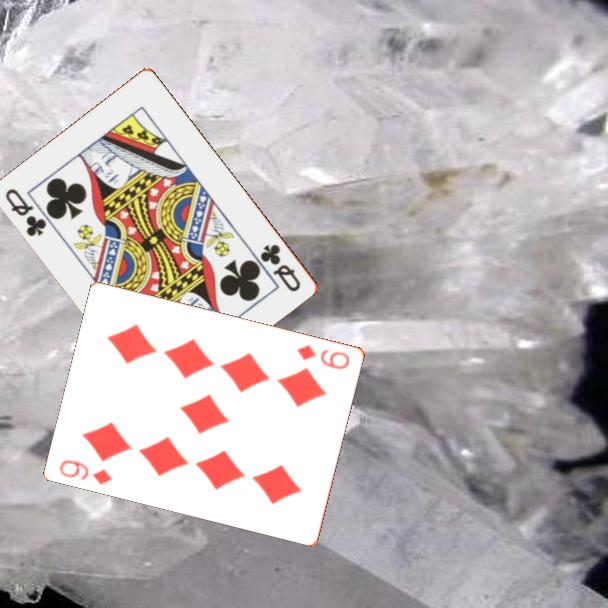c12: (2, 185, 50, 240), (257, 241, 304, 295)
d09: (56, 456, 116, 487), (294, 341, 353, 372)
